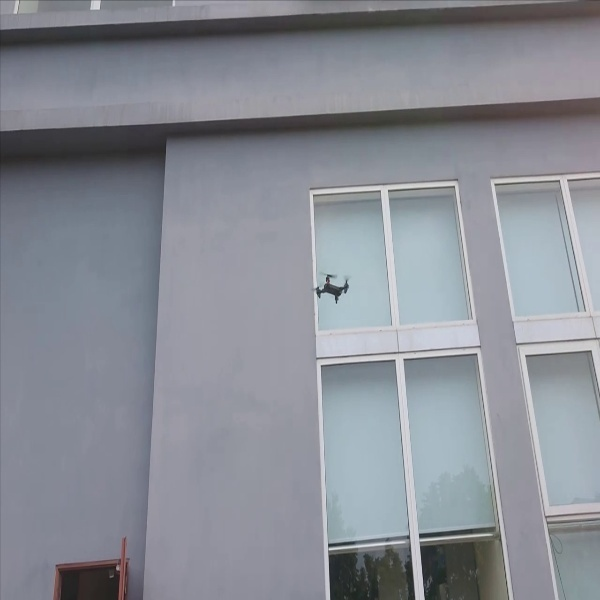drone: (313, 264, 359, 307)
